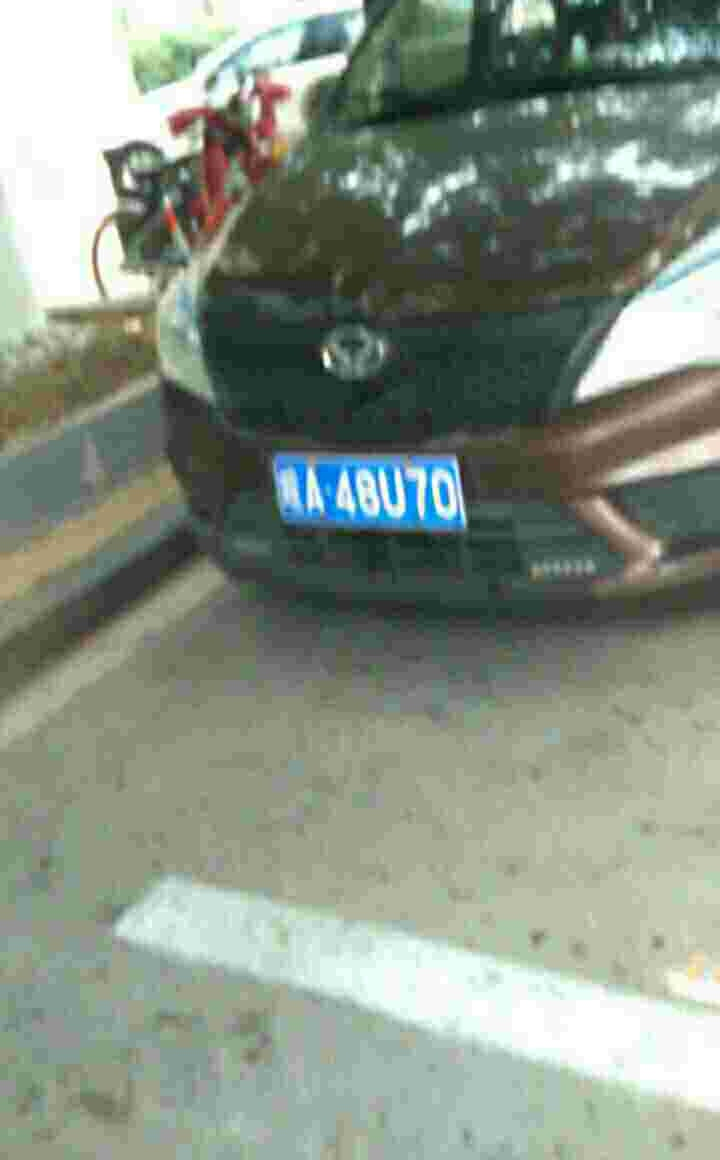license_plate: (277, 454, 462, 533)
